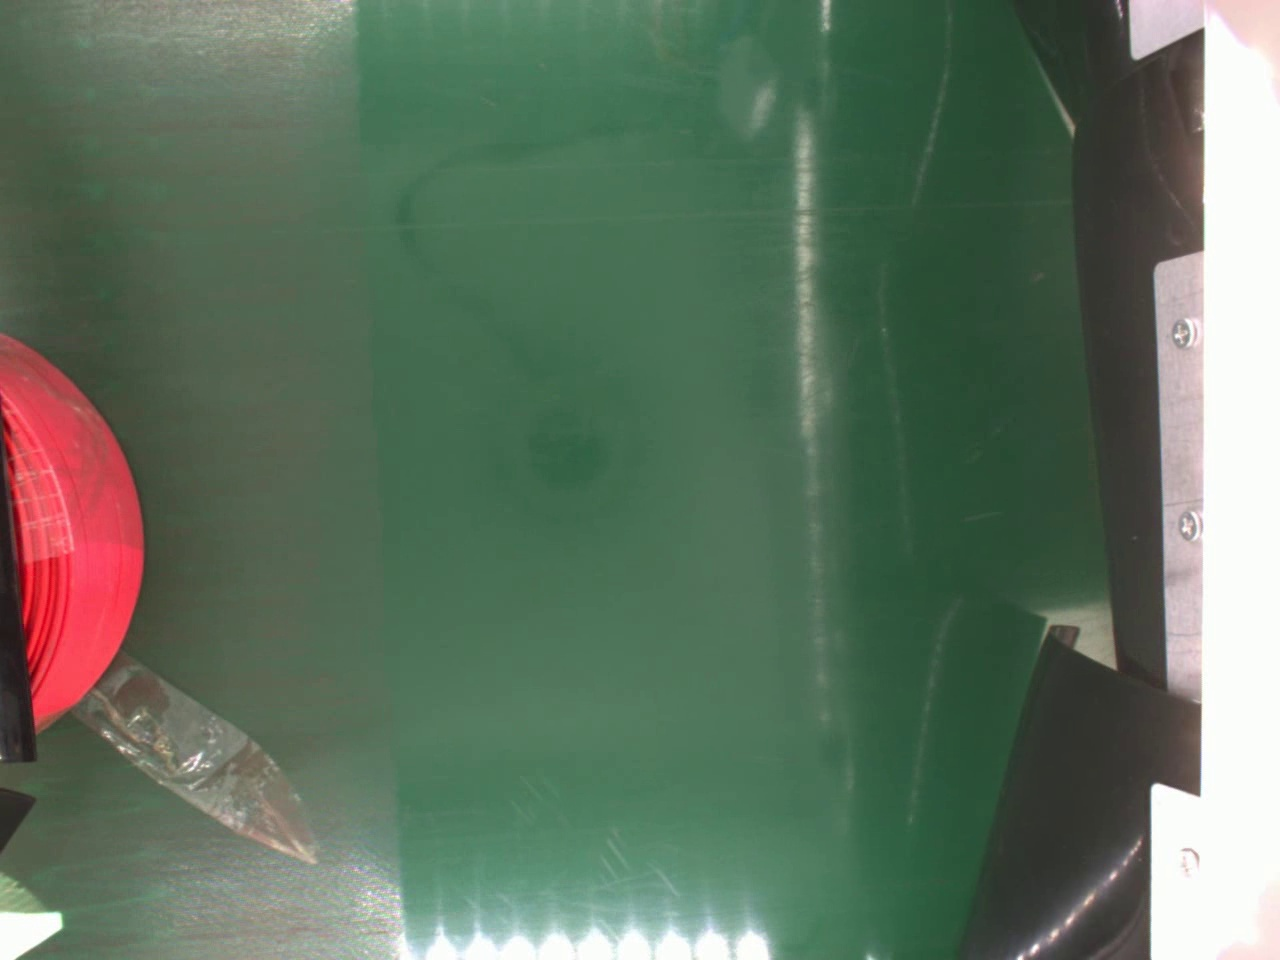red: (0, 330, 142, 725)
